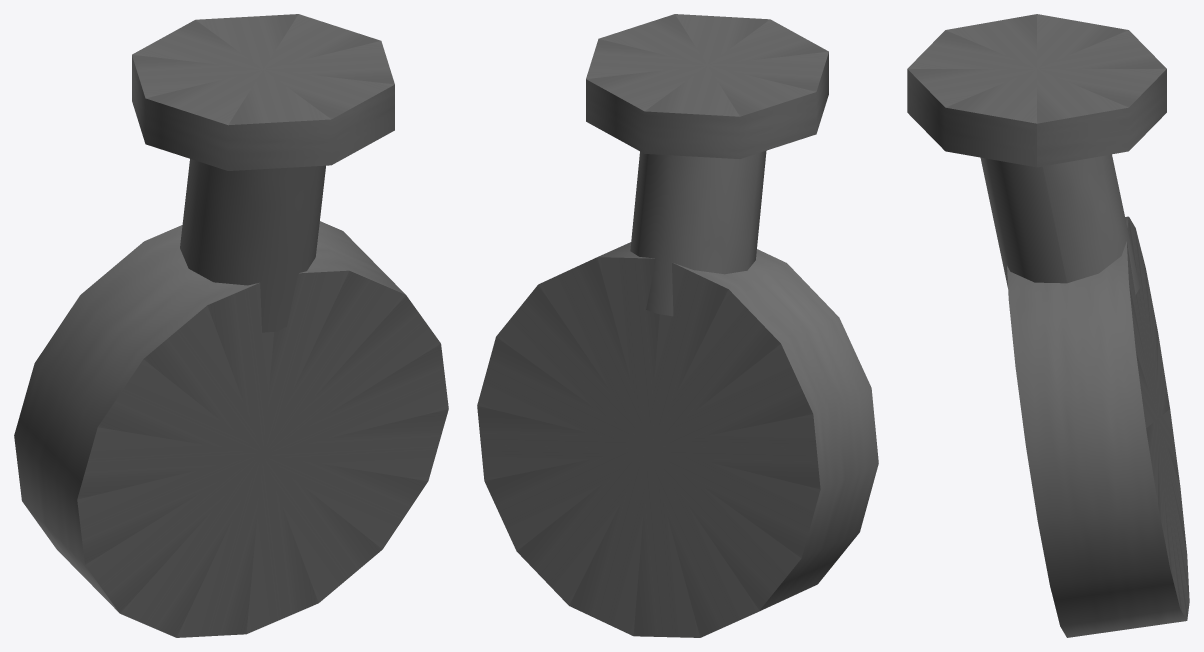
The model's file is mastarmcurve_6x2_c6_up.obj.
3 renders of one model, left to right at view 1: azimuth 30°, elevation 25°; view 2: azimuth 150°, elevation 25°; view 3: azimuth 270°, elevation 25°, orthographic. The views are drawn at different scales.
Parts seen in each view (by area): view 1: mastarm_6x2_c6_up; view 2: mastarm_6x2_c6_up; view 3: mastarm_6x2_c6_up.
Boxes of the visible parts, x1,y1,x2,y2 form: mastarm_6x2_c6_up: (14,14,448,637); mastarm_6x2_c6_up: (477,14,878,637); mastarm_6x2_c6_up: (907,14,1189,637).
Bounding box in the file's own units: 0.6301 × 0.935 × 0.435.
